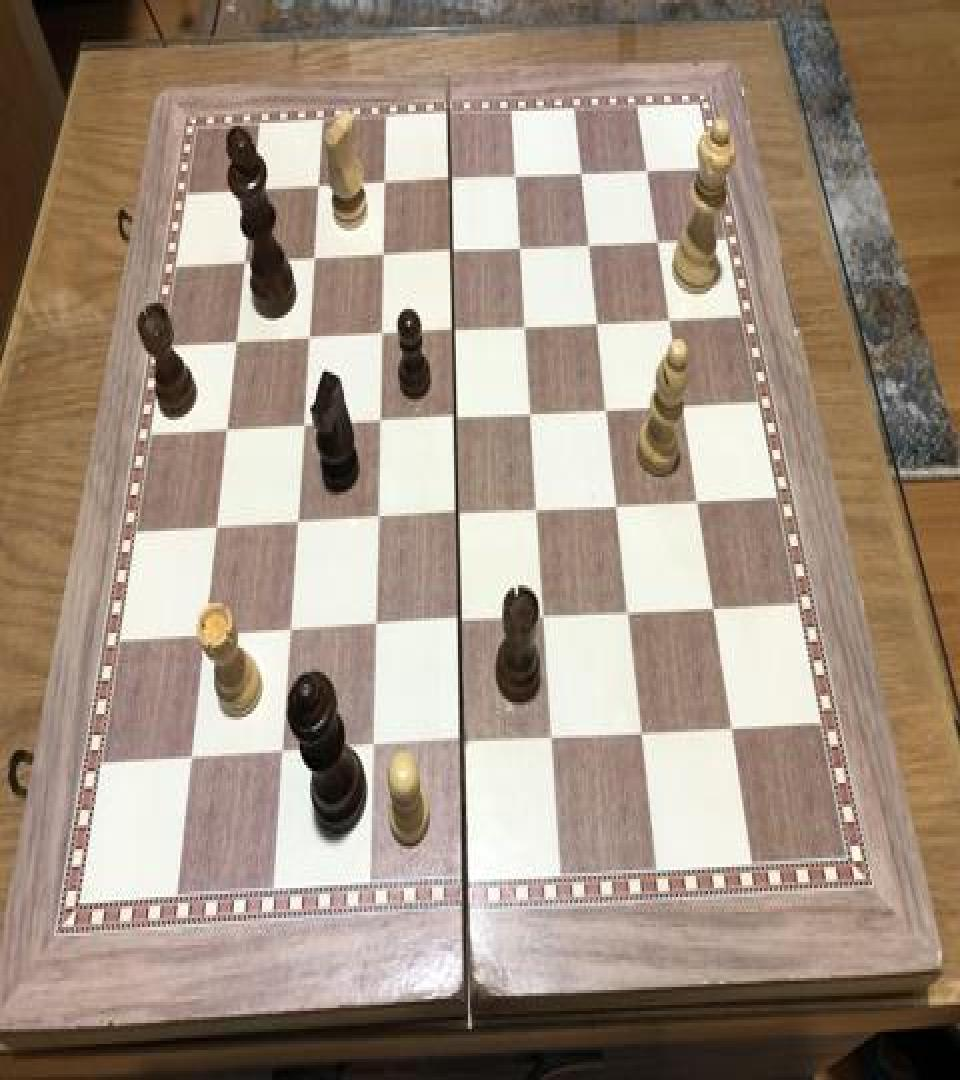xcorner: (543, 718, 567, 755), (182, 742, 206, 779), (637, 153, 661, 189), (572, 158, 596, 194), (506, 160, 530, 196), (441, 164, 465, 200), (375, 166, 399, 202), (309, 171, 333, 207), (243, 174, 267, 210), (648, 224, 672, 260), (579, 228, 603, 264), (511, 231, 535, 267), (442, 236, 466, 272), (373, 238, 397, 274), (304, 243, 328, 279), (235, 246, 259, 282), (659, 302, 683, 338), (588, 306, 612, 342), (516, 310, 540, 346), (444, 314, 468, 350), (372, 318, 396, 354), (299, 322, 323, 358), (226, 326, 250, 362), (672, 387, 696, 423), (597, 392, 621, 428), (522, 396, 546, 432), (446, 400, 470, 436), (370, 405, 394, 441), (294, 410, 318, 446), (217, 414, 241, 450), (687, 483, 711, 519), (608, 488, 632, 524), (528, 492, 552, 528), (448, 496, 472, 532), (368, 502, 392, 538), (287, 507, 311, 543), (207, 512, 231, 548), (703, 588, 727, 624), (619, 594, 643, 630), (535, 598, 559, 634), (450, 604, 474, 640), (366, 609, 390, 645), (280, 615, 304, 651), (195, 620, 219, 656), (721, 708, 745, 744), (632, 714, 656, 750), (453, 724, 477, 760), (363, 730, 387, 766), (273, 736, 297, 772)
